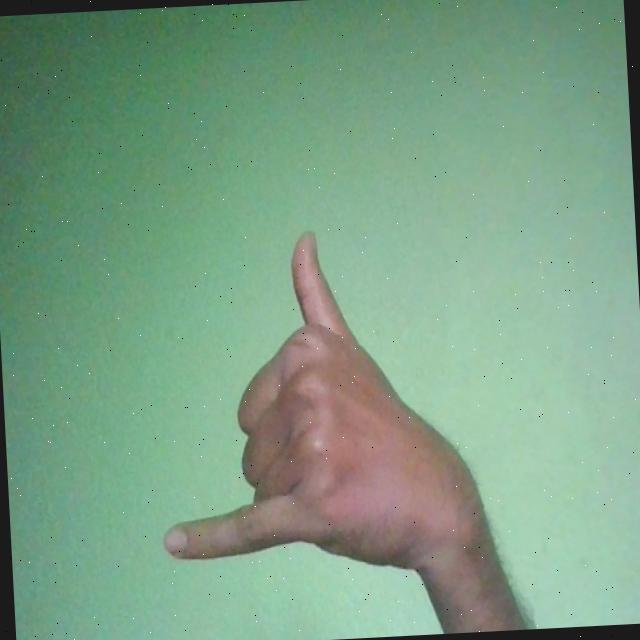Call Me: (148, 219, 492, 586)
